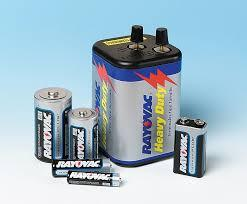9V: (172, 113, 211, 185)
